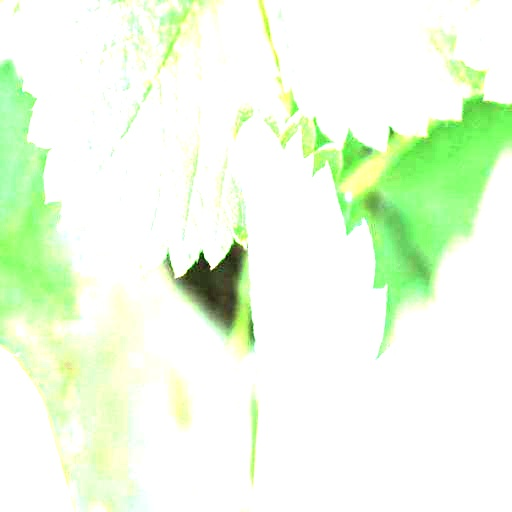Powdery Mildew Leaf: (219, 83, 390, 511)
